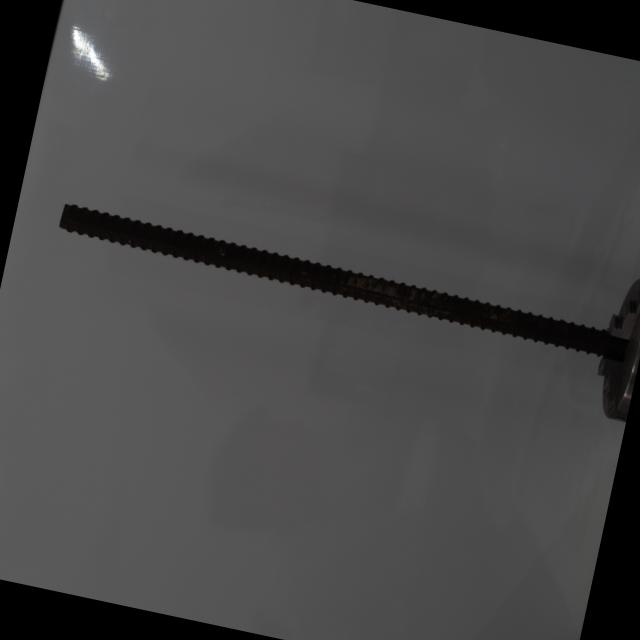ribbed bar: (53, 198, 610, 358)
